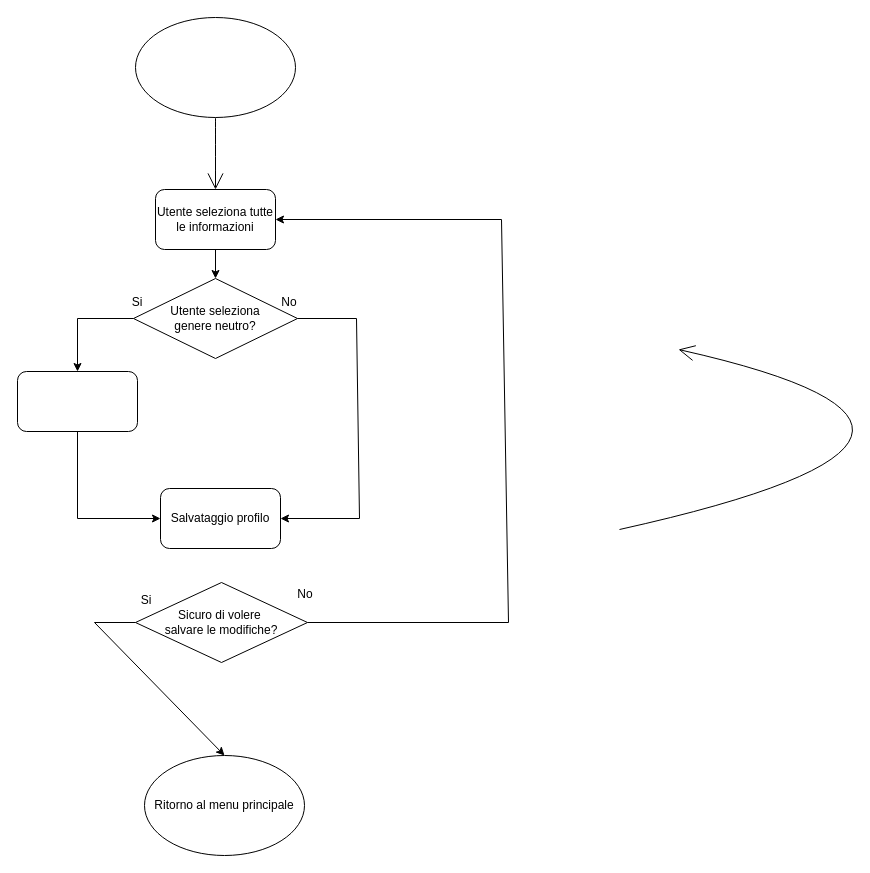
Some shapes in this 870 by 873 pixel diagram are drawn without their labels. The shapes that lost their labels are listed below. From the top down, each one's centre as x and y in pixels, then its label:
At (x=215, y=67): "Creazione Modifica Profilo Player".
At (x=77, y=401): "Visualizza menu a tendina scelta modello 3D giocatore".
